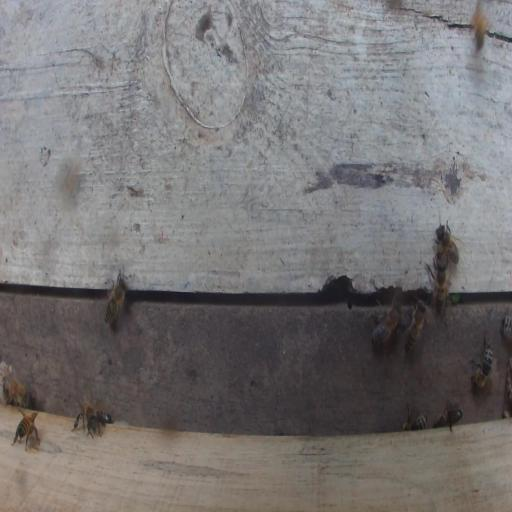bee: (74, 380, 106, 440), (370, 293, 401, 350), (469, 334, 493, 390), (104, 268, 126, 328), (403, 299, 426, 355), (434, 219, 460, 266), (12, 409, 40, 452), (470, 0, 492, 54), (430, 256, 449, 316), (433, 404, 463, 431), (2, 376, 28, 406), (402, 405, 428, 431), (499, 313, 511, 344), (97, 411, 113, 425)
